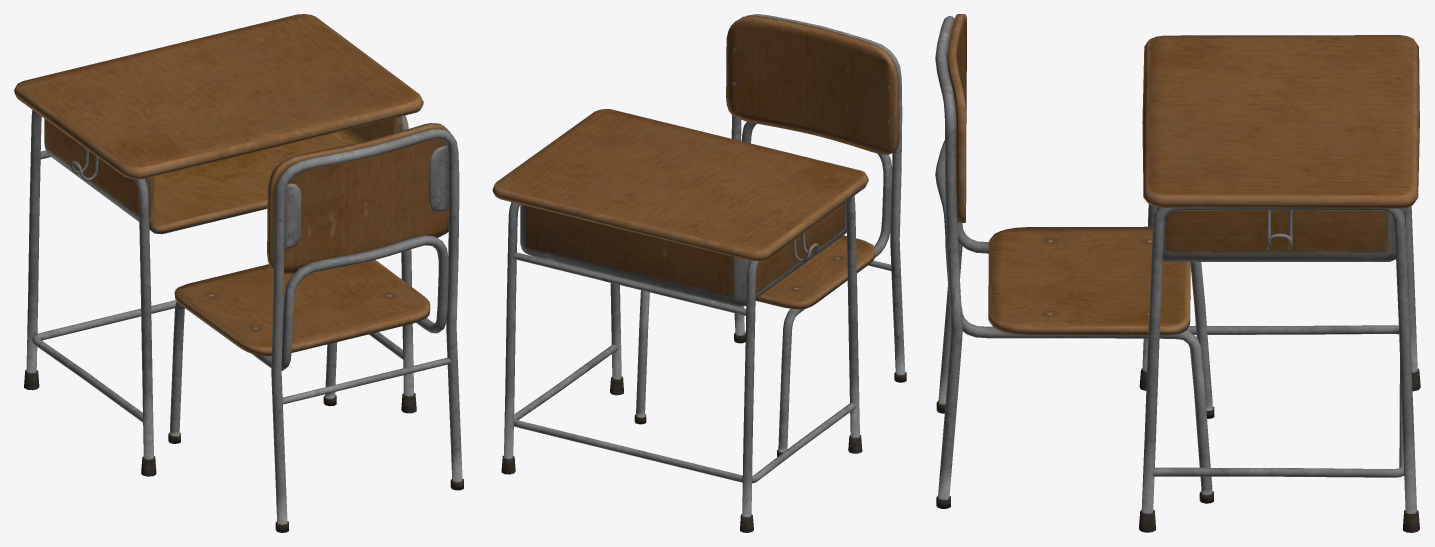
Rendered from school_desk_optimised.glb.
The picture shows the model from 3 angles, left to right: view 1: azimuth 30°, elevation 25°; view 2: azimuth 150°, elevation 25°; view 3: azimuth 270°, elevation 25°; orthographic projection. The views are drawn at different scales.
Parts seen in each view (by area): view 1: DeskWood, ChairWood, ChairMetal, DeskMetal; view 2: DeskWood, ChairWood, DeskMetal, ChairMetal; view 3: DeskWood, ChairWood, DeskMetal, ChairMetal.
Boxes of the visible parts, x1,y1,x2,y2 form: DeskWood: (14, 14, 423, 234); ChairWood: (174, 123, 450, 356); ChairMetal: (168, 129, 463, 532); DeskMetal: (24, 110, 416, 476); DeskWood: (492, 109, 868, 306); ChairWood: (726, 15, 899, 309); DeskMetal: (501, 195, 862, 532); ChairMetal: (634, 14, 906, 456); DeskWood: (1142, 35, 1419, 261); ChairWood: (947, 14, 1190, 335); DeskMetal: (1139, 204, 1420, 532); ChairMetal: (935, 16, 1214, 508).
Bounding box in the file's own units: 0.786 × 0.9098 × 0.9852.
1 material, 1 textured.
